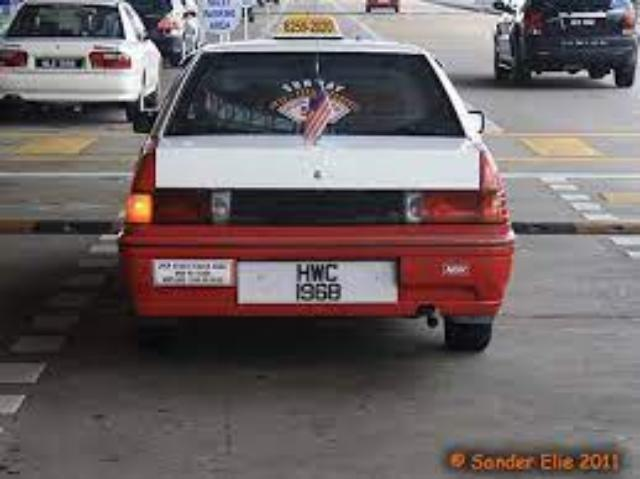License_Plate: (238, 261, 401, 308)
car: (117, 21, 524, 362)
